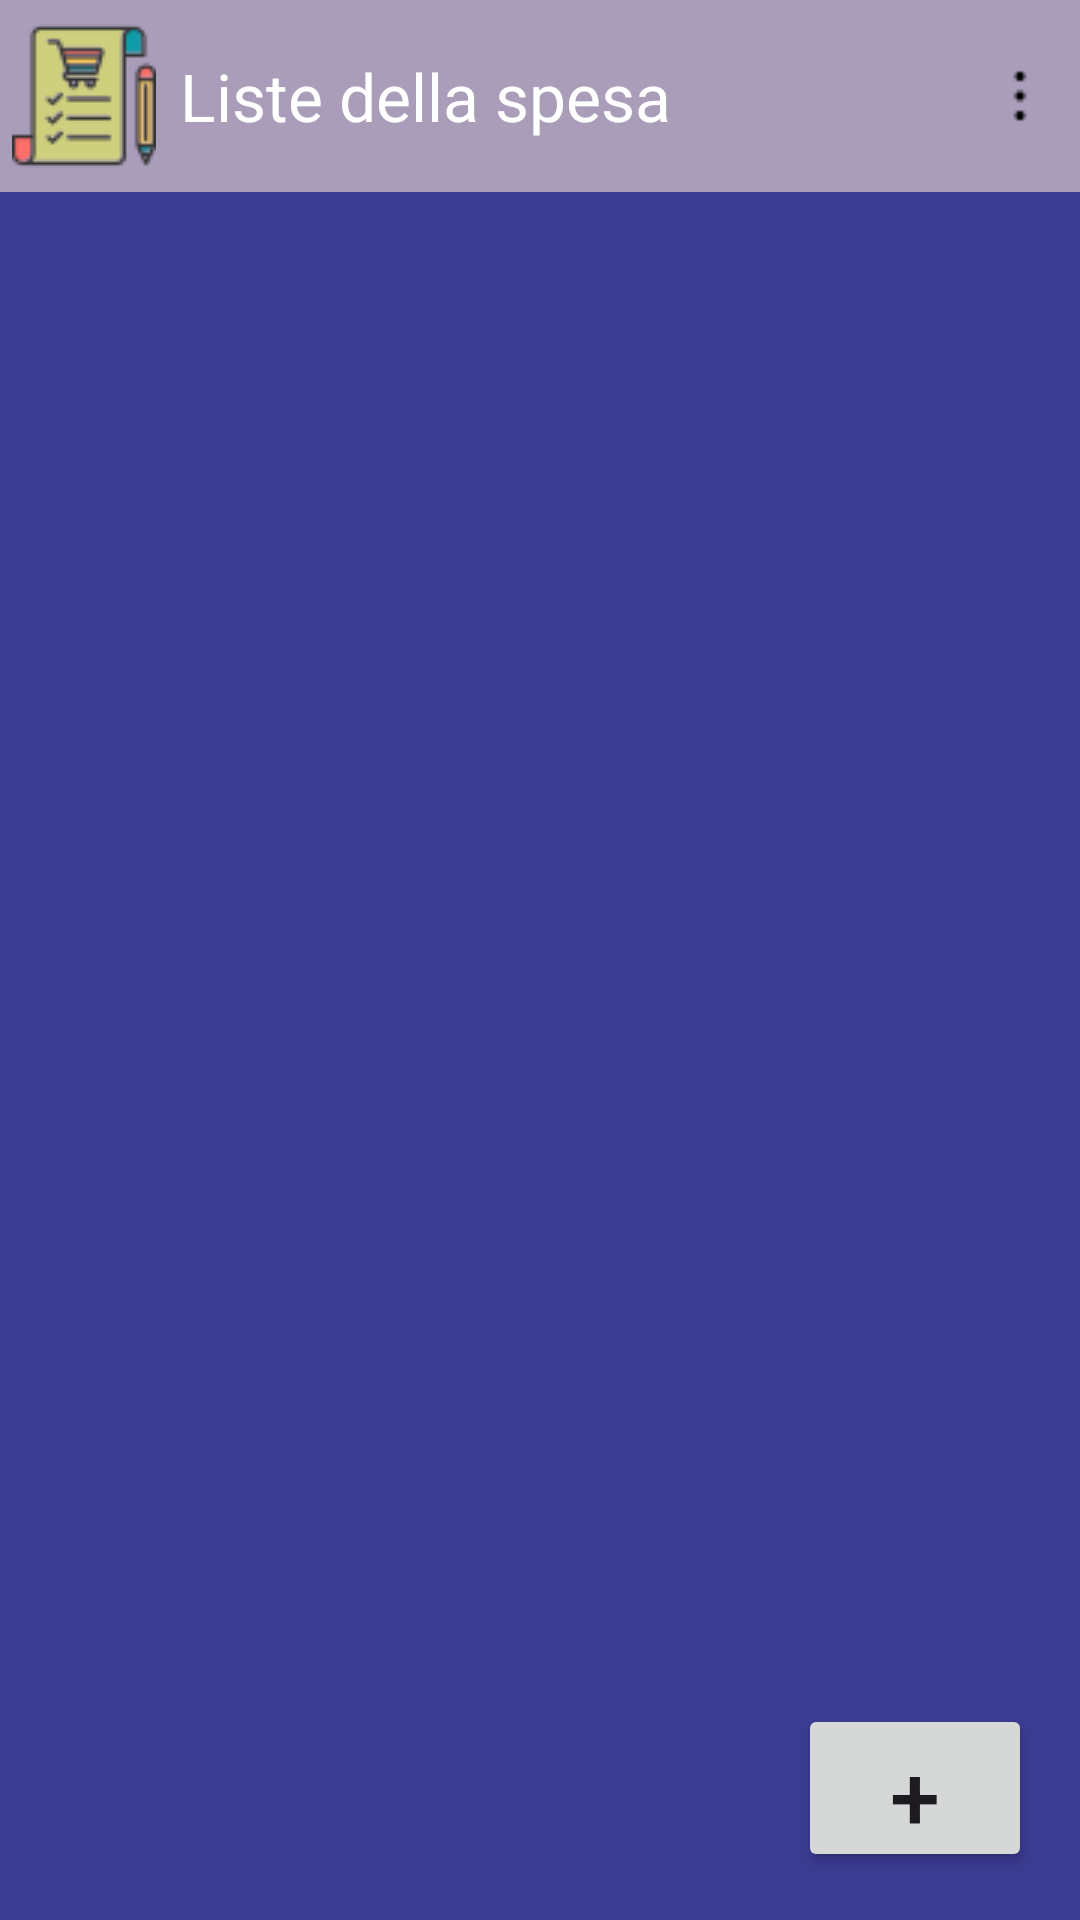

Point at icon controls on the screen. Image size 1080 × 1920, points as [x,y].
menu: [1020,96]
